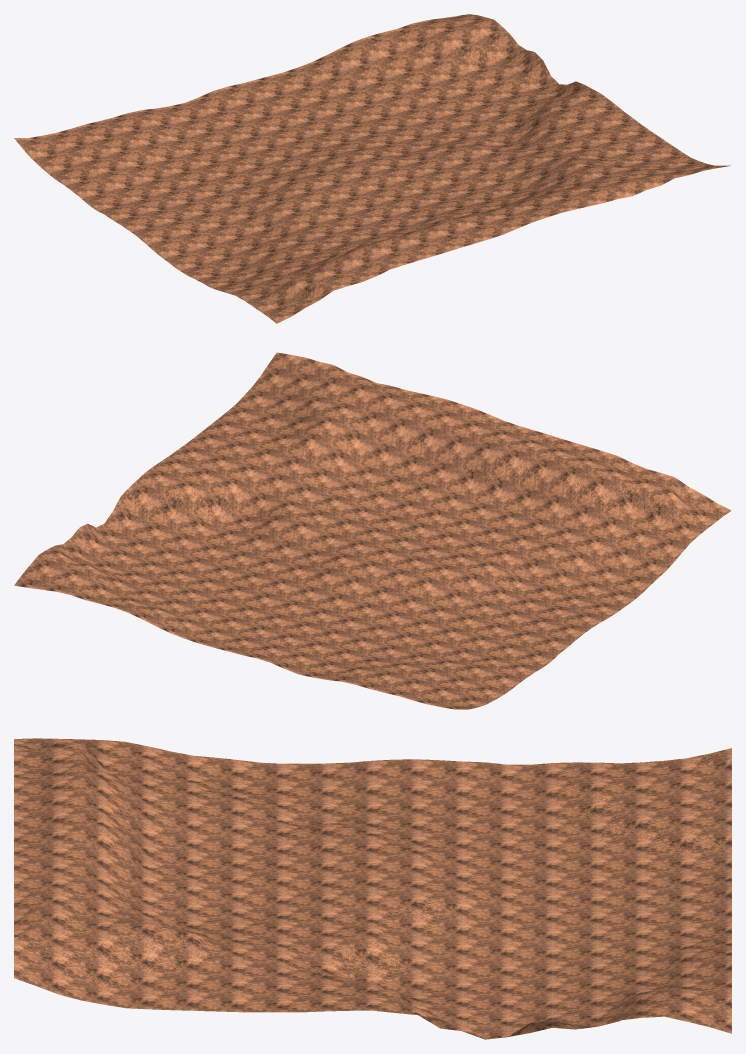
File: terrain_03_18.dae
The picture shows the model from 3 angles, top to bottom: view 1: azimuth 30°, elevation 25°; view 2: azimuth 150°, elevation 25°; view 3: azimuth 270°, elevation 25°; orthographic projection. The views are drawn at different scales.
Visible parts, largest first — view 1: terrain_03_18-node; view 2: terrain_03_18-node; view 3: terrain_03_18-node.
Part boxes in pixels (x1,y1,x2,y2): terrain_03_18-node: [14, 14, 730, 323]; terrain_03_18-node: [14, 352, 731, 709]; terrain_03_18-node: [14, 738, 731, 1039].
Bounding box in the file's own units: 128 × 128 × 18.21.
Materials: 1 (1 with a texture image).
